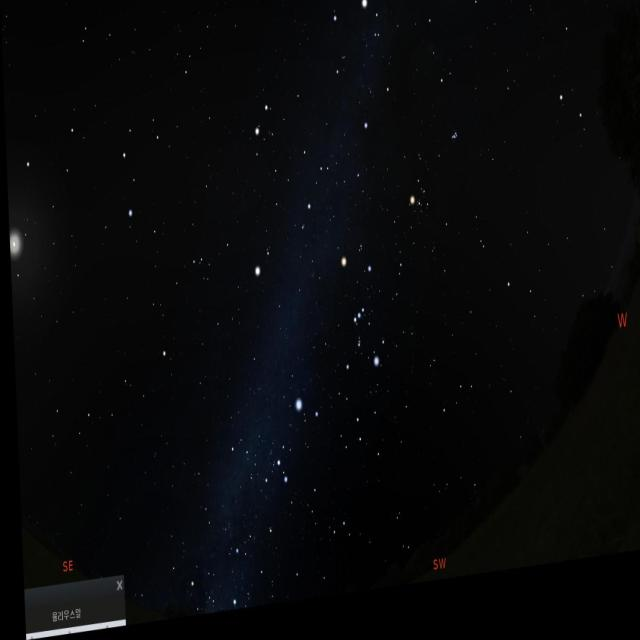canis_major: (262, 396, 325, 510)
canis_minor: (247, 238, 272, 298)
gemini: (250, 102, 324, 228)
leo: (16, 89, 172, 247)
moon: (7, 218, 36, 280)
orion: (326, 257, 392, 393)
pleiades: (442, 130, 460, 170)
taurus: (396, 108, 479, 262)
